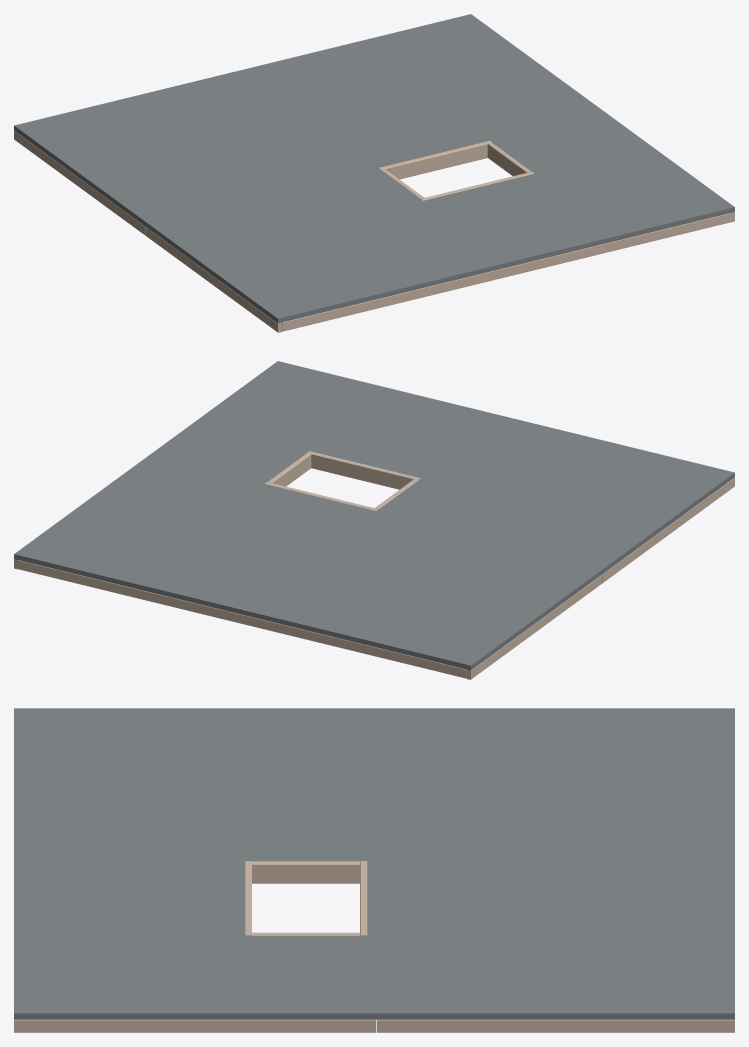
Rendered from SecondFloor.fbx.
3 views of the same model, one above another, from view 1: azimuth 30°, elevation 25°; view 2: azimuth 150°, elevation 25°; view 3: azimuth 270°, elevation 25° (orthographic). The views are drawn at different scales.
Visible parts, largest first — view 1: RoofPlane, Lumber; view 2: RoofPlane, Lumber; view 3: RoofPlane, Lumber.
Boxes of the visible parts, left/top/right/bottom form: RoofPlane: left=14, top=14, right=734, bottom=323; Lumber: left=14, top=130, right=734, bottom=332; RoofPlane: left=14, top=361, right=734, bottom=670; Lumber: left=14, top=451, right=734, bottom=679; RoofPlane: left=14, top=708, right=734, bottom=1019; Lumber: left=14, top=861, right=734, bottom=1032.
Size of the model in its own units: 500 by 15.37 by 500.
